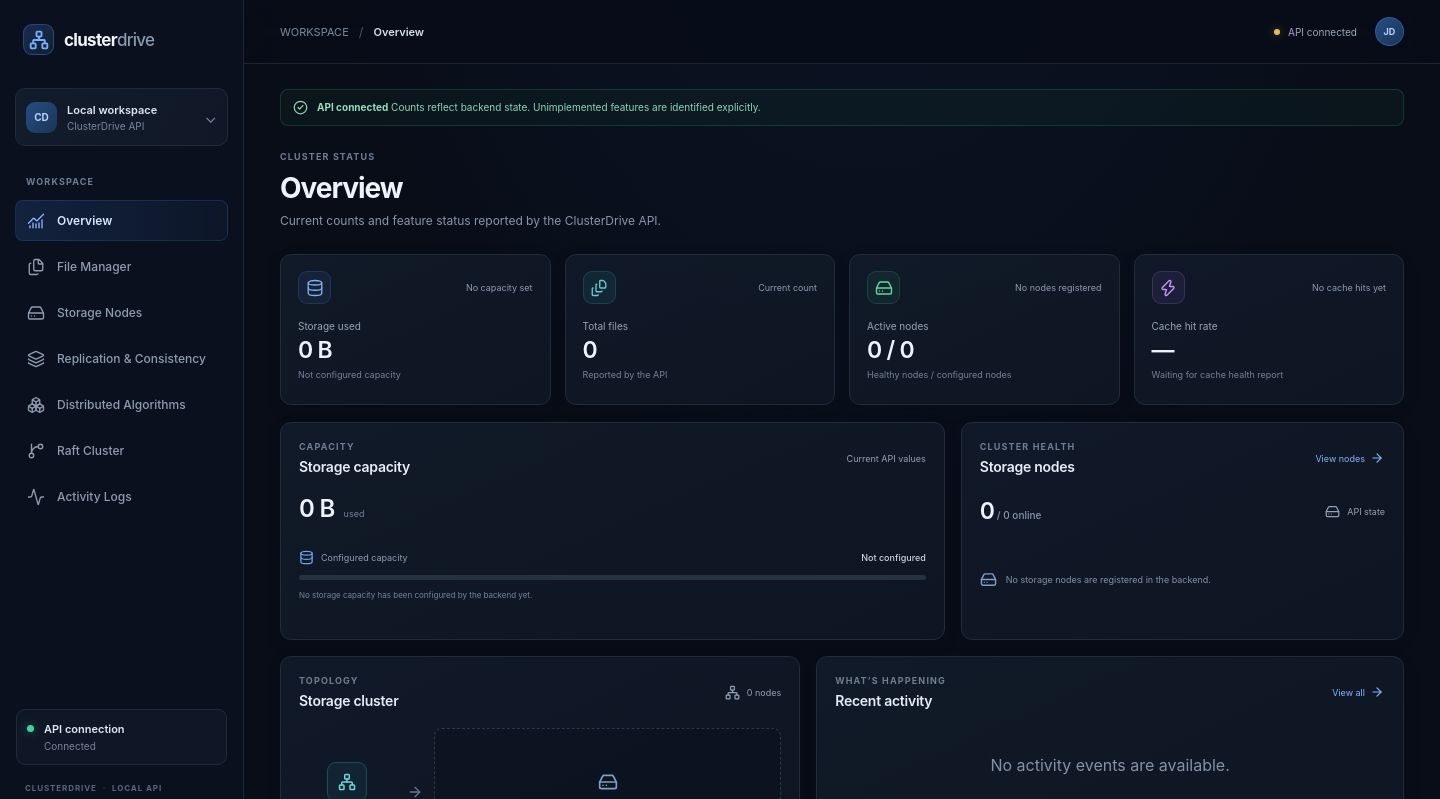
Test: ClusterDrive API-connected dashboard › searches and filters file records returned by the API
Click the button "File Manager" at (122, 266), box [15,246,228,287]
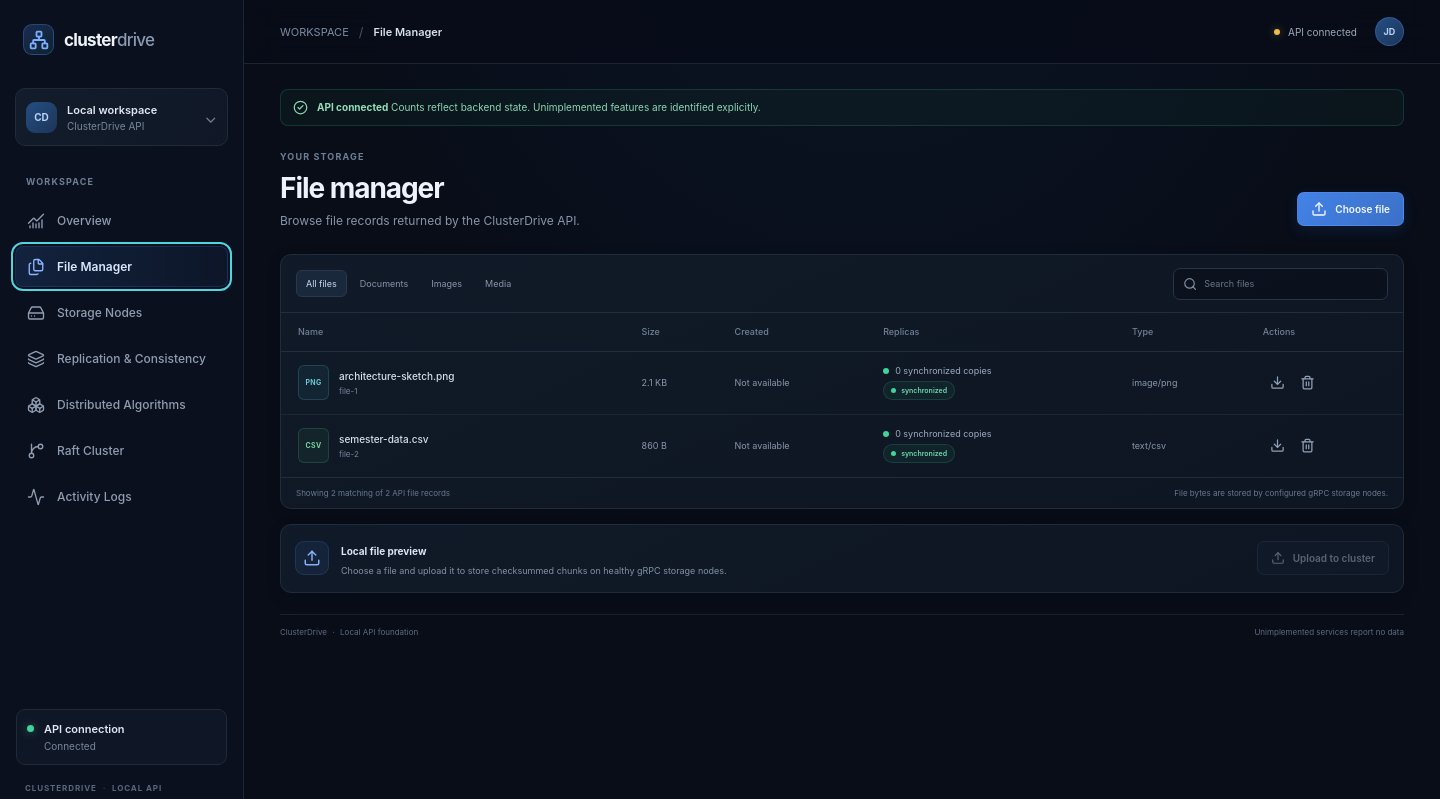
Now the text "architecture-sketch.png" is shown, box [339,370,454,382]
Type "architecture" into the search field labelled "Search files" at (1291, 284), box [1204,278,1378,289]
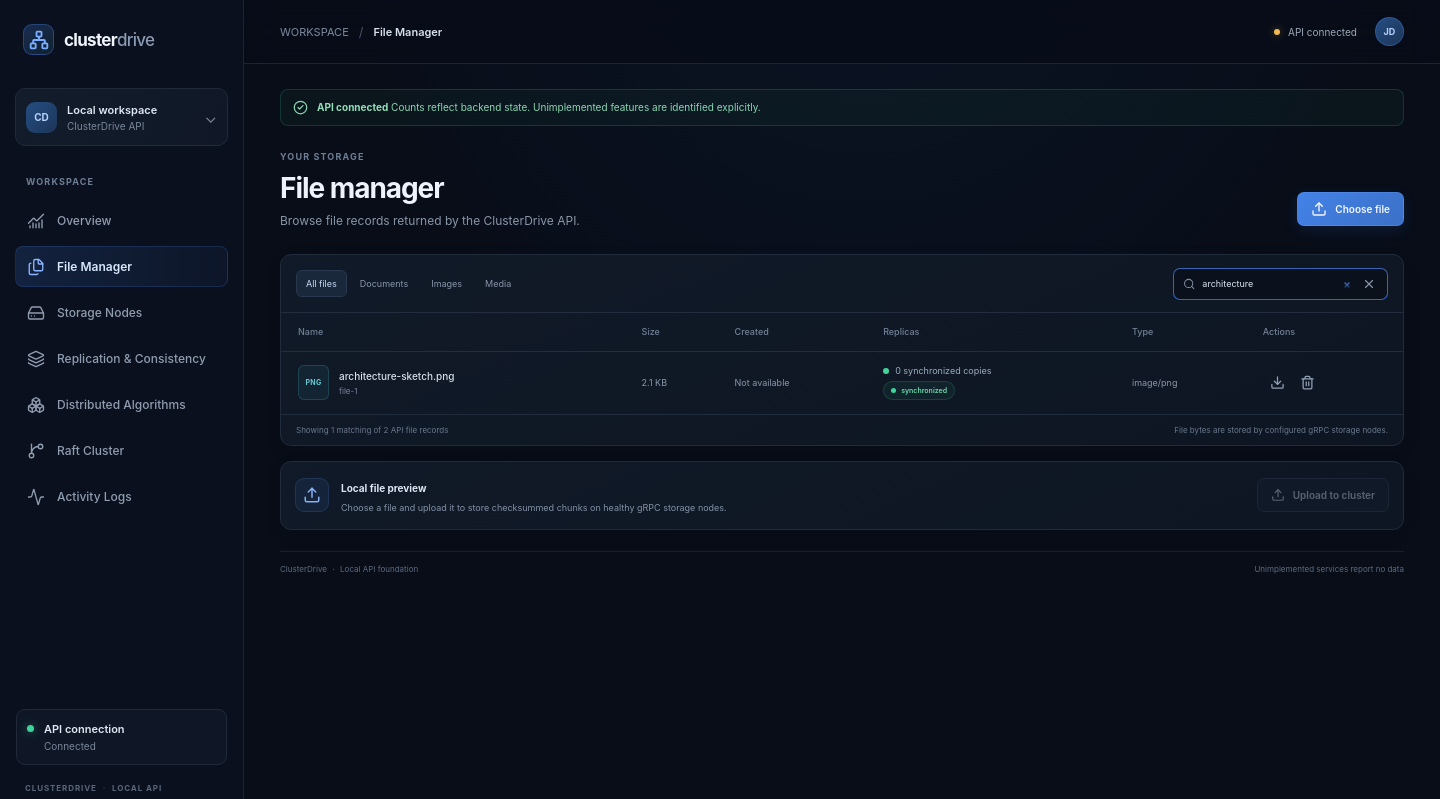
Now the text "architecture-sketch.png" is shown, box [339,370,454,382]
Now the text "semester-data.csv" is gone
Clear the search field named "Search files" at (1278, 284), box [1202,278,1353,289]
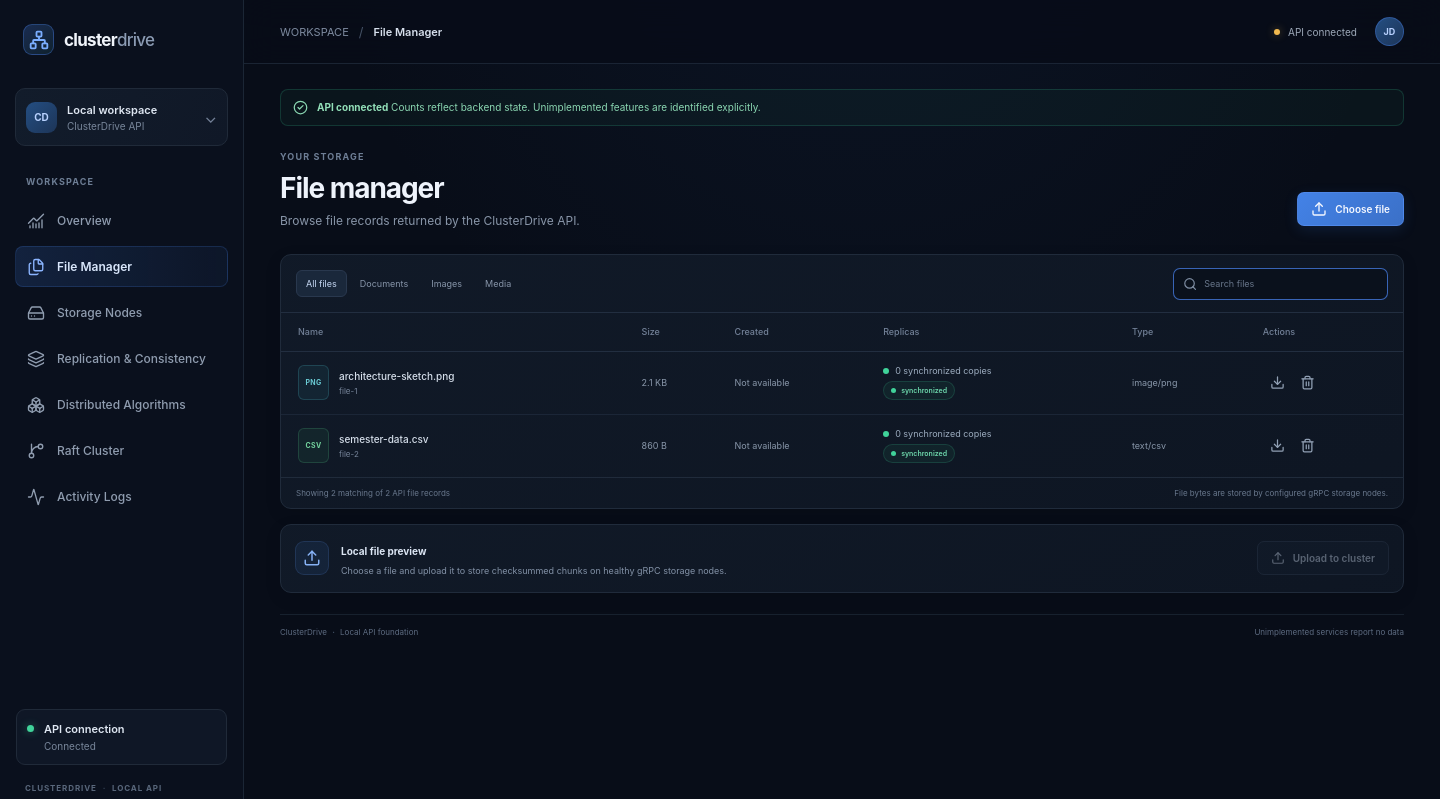
Click the button "Documents" at (384, 284), box [350,270,418,297]
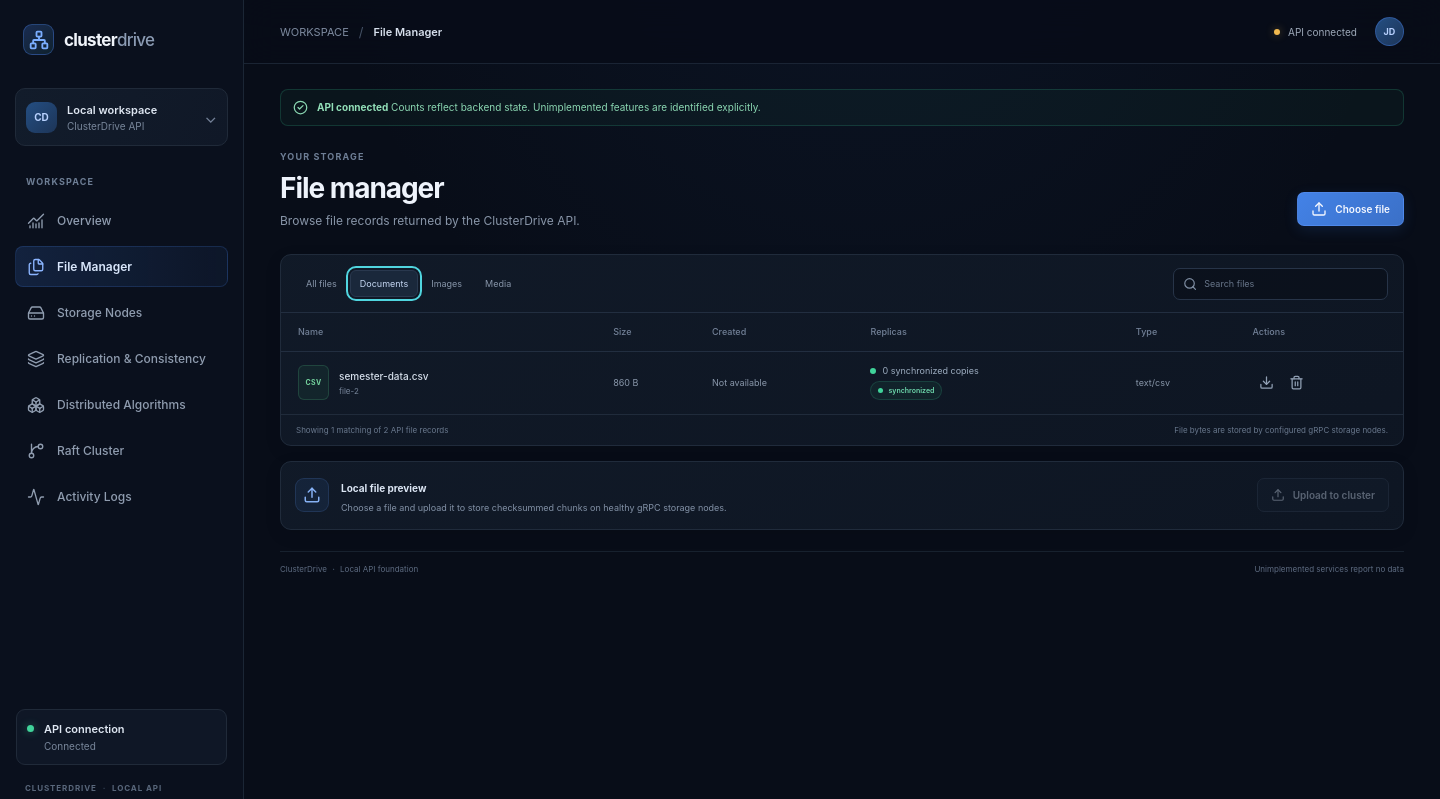
Now the text "semester-data.csv" is shown, box [339,370,429,382]
Now the text "architecture-sketch.png" is gone
